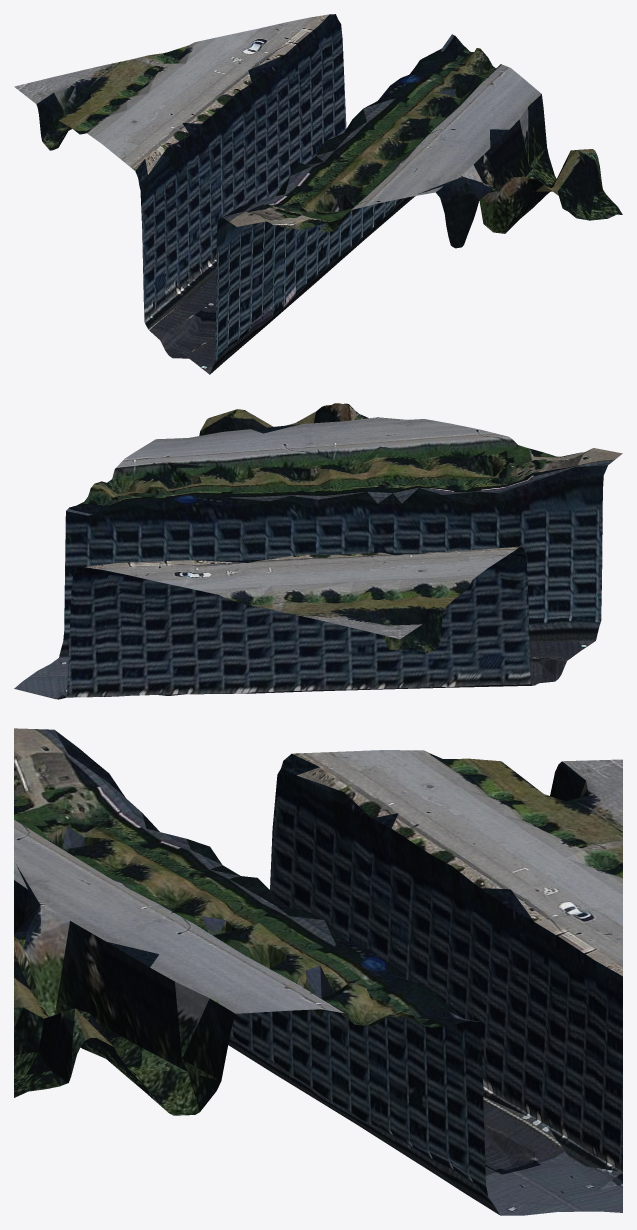
Rendered from map_15_8176_13786.dae.
The picture shows the model from 3 angles, top to bottom: view 1: azimuth 30°, elevation 25°; view 2: azimuth 150°, elevation 25°; view 3: azimuth 270°, elevation 25°; orthographic projection. The views are drawn at different scales.
Parts seen in each view (by area): view 1: Ter0; view 2: Ter0; view 3: Ter0.
Part boxes in pixels (bbox=[...]): Ter0: bbox=[14, 14, 622, 374]; Ter0: bbox=[14, 403, 622, 699]; Ter0: bbox=[14, 728, 622, 1215].
Size of the model in its own units: 63.88 by 63.88 by 28.54.
6 materials, 6 textured.
